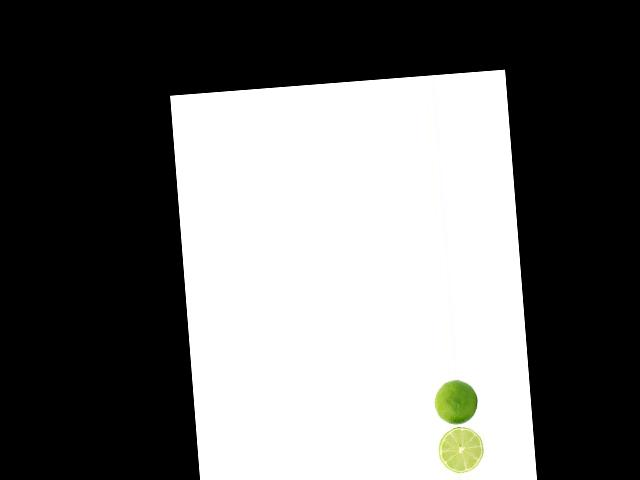lemon: (434, 379, 481, 425)
